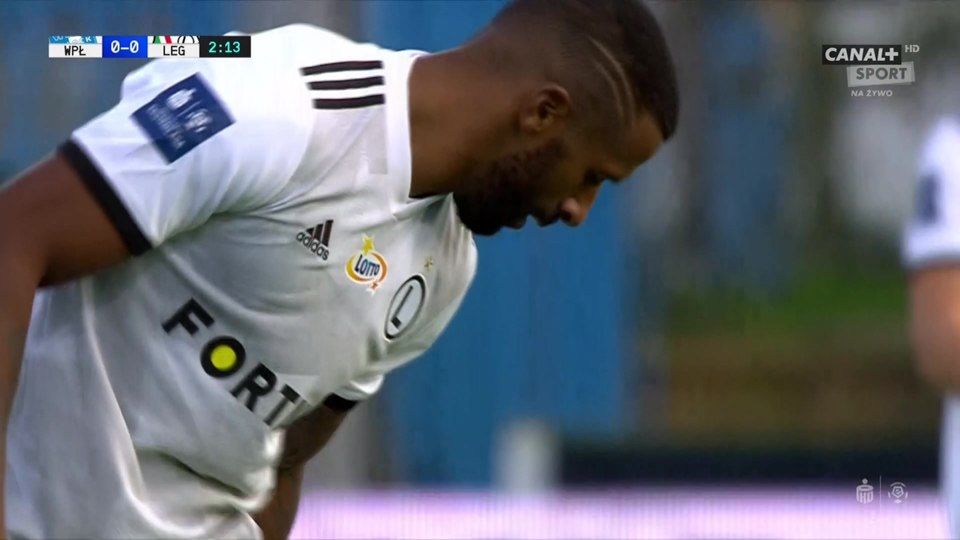Adidas: (297, 217, 334, 260)
